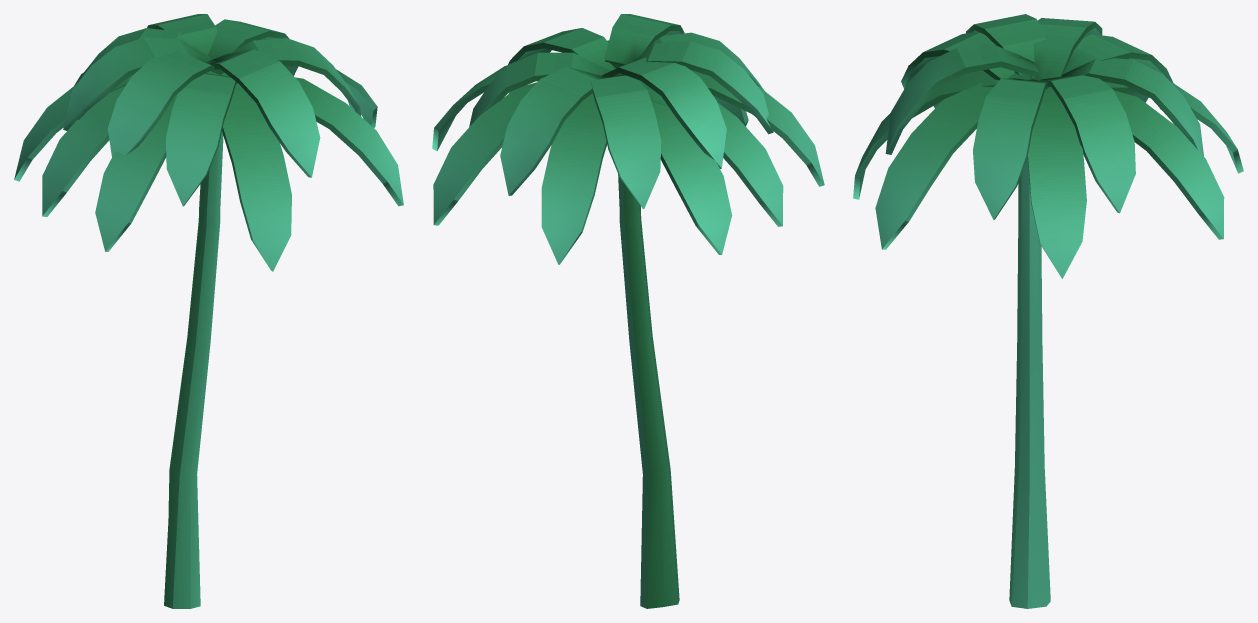
Rendered from KM_PalmTree2.FBX.
3 views of the same model, side by side, from view 1: azimuth 30°, elevation 25°; view 2: azimuth 150°, elevation 25°; view 3: azimuth 270°, elevation 25° (orthographic). The views are drawn at different scales.
Visible parts, largest first — view 1: Box022; view 2: Box022; view 3: Box022.
Boxes of the visible parts, left/top/right/bottom form: Box022: left=14, top=14, right=403, bottom=608; Box022: left=432, top=14, right=824, bottom=608; Box022: left=853, top=14, right=1243, bottom=608.
Bounding box in the file's own units: 1.38 × 2.12 × 1.32.
